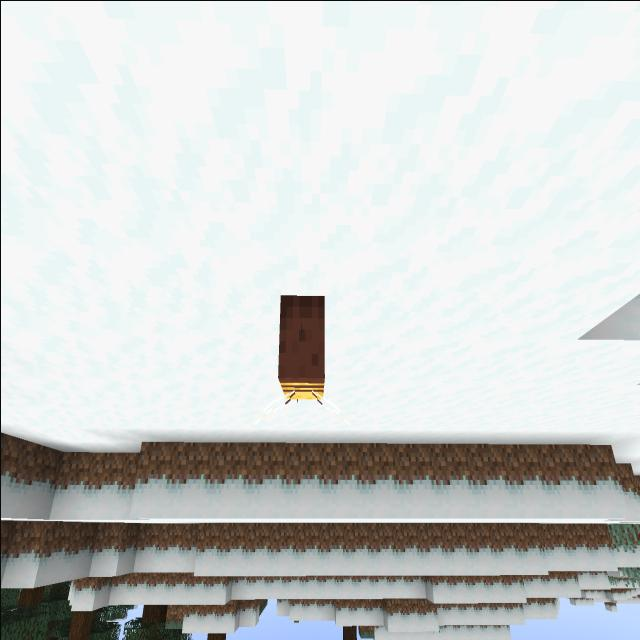bee: (246, 270, 358, 451)
